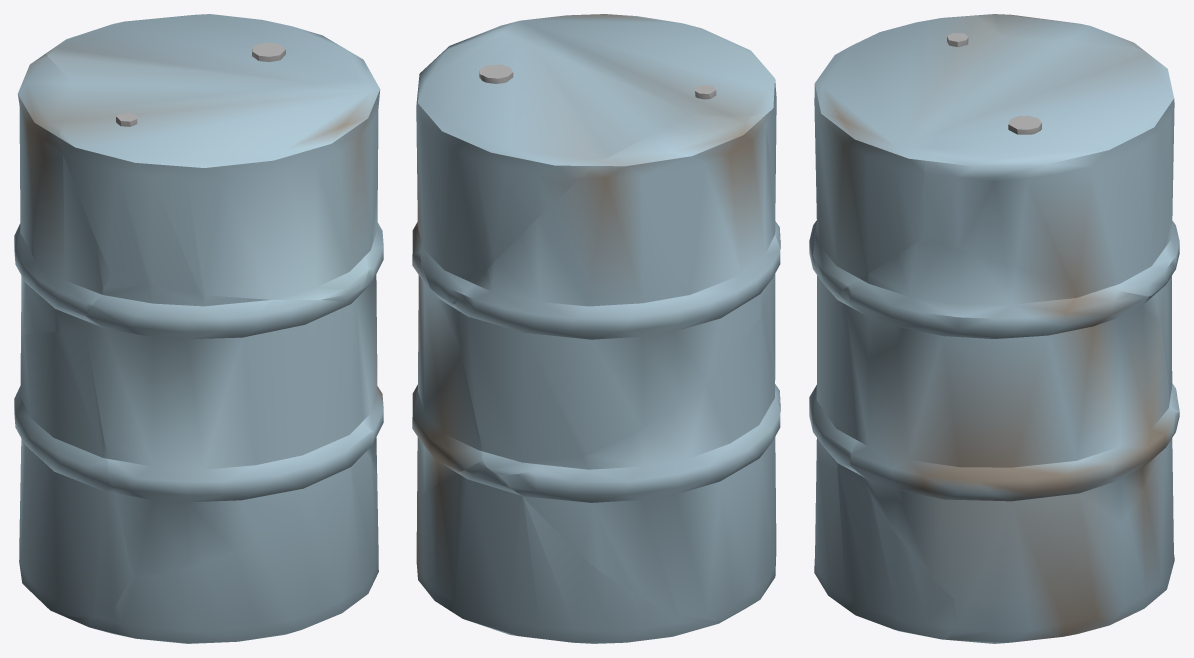
File: loot-barrel-1.glb
3 renders of one model, left to right at view 1: azimuth 30°, elevation 25°; view 2: azimuth 150°, elevation 25°; view 3: azimuth 270°, elevation 25°, orthographic.
Visible parts, largest first — view 1: c03, c07, c00, c02, c06, c05, c04, c01; view 2: c05, c02, c06, c01, c07, c04, c03; view 3: c04, c06, c07, c01, c00, c03, c05.
Boxes of the visible parts, <box> form: c03: <box>85,273,372,576</box>; c07: <box>58,79,380,300</box>; c00: <box>112,452,378,643</box>; c02: <box>14,330,132,617</box>; c06: <box>46,14,375,107</box>; c05: <box>14,53,111,336</box>; c04: <box>356,186,383,475</box>; c01: <box>19,545,117,634</box>; c05: <box>454,113,780,475</box>; c02: <box>500,286,780,621</box>; c06: <box>416,30,691,308</box>; c01: <box>416,460,775,643</box>; c07: <box>489,14,776,198</box>; c04: <box>412,214,483,496</box>; c03: <box>769,221,780,411</box>; c04: <box>839,238,1174,599</box>; c06: <box>925,38,1174,296</box>; c07: <box>813,15,1002,292</box>; c01: <box>949,412,1179,643</box>; c00: <box>814,460,952,639</box>; c03: <box>809,220,856,471</box>; c05: <box>974,14,1179,412</box>.
Size of the model in its own units: 0.6044 by 0.8818 by 0.6044.
